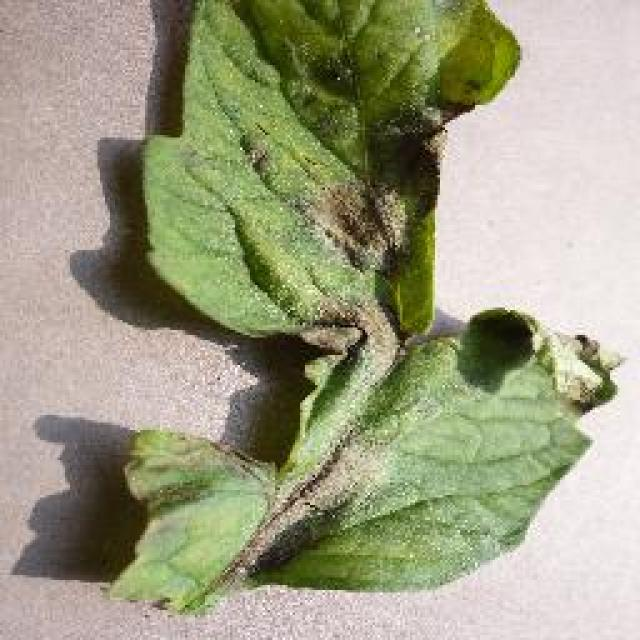Tomato___Late_blight: (95, 0, 629, 618)
